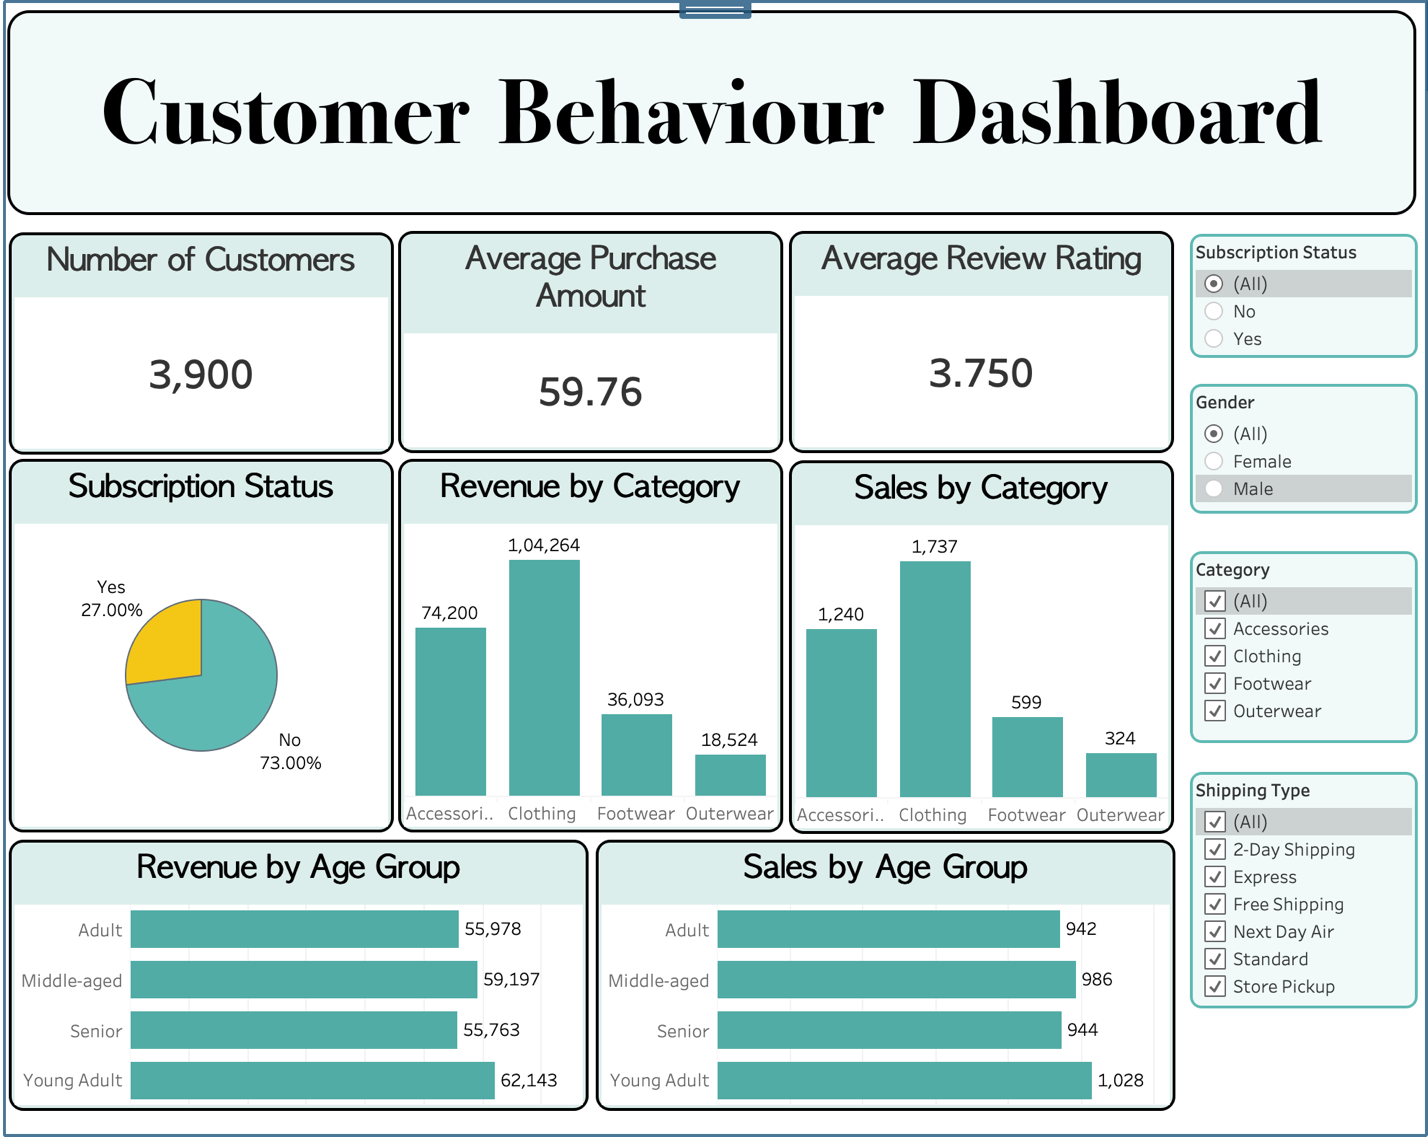

This screenshot's page, from the dashboard's own definition file:
{"tool":"tableau","page":{"name":"Dashboard 1","canvas":[1000,800],"ordinal":0},"visuals":[{"type":"text","box":[9,13,977,142]},{"type":"worksheet","title":"Average Purchase Amount ","mark":"Automatic","box":[279,165,269,156]},{"type":"worksheet","title":"Average Review Rating","mark":"Automatic","box":[550,165,269,156]},{"type":"worksheet","title":"Number of Customers","mark":"Automatic","box":[9,166,269,156]},{"type":"filter","title":"Subscription Status","param":"[federated.0w0owv40n6nkl01d4266i1qc71y3].[none:subscription_status:nk]","box":[828,167,160,88]},{"type":"filter","title":"Revenue by Category","param":"[federated.0w0owv40n6nkl01d4266i1qc71y3].[none:gender:nk]","box":[828,271,160,92]},{"type":"worksheet","title":"Subscription Status","mark":"Pie","box":[9,323,269,261]},{"type":"worksheet","title":"Revenue by Category","mark":"Automatic","rows":["purchase_amount"],"cols":["category"],"box":[279,323,269,261]},{"type":"worksheet","title":"Sales by Category","mark":"Automatic","rows":["customer_id"],"cols":["category"],"box":[550,324,269,261]},{"type":"filter","title":"Sales by Category","param":"[federated.0w0owv40n6nkl01d4266i1qc71y3].[none:category:nk]","box":[828,387,160,135]},{"type":"filter","title":"Revenue by Category","param":"[federated.0w0owv40n6nkl01d4266i1qc71y3].[none:shipping_type:nk]","box":[828,540,160,166]},{"type":"worksheet","title":"Revenue by Age Group","mark":"Automatic","rows":["age_group"],"cols":["purchase_amount"],"box":[9,587,404,190]},{"type":"worksheet","title":"Sales by Age Group","mark":"Automatic","rows":["age_group"],"cols":["customer_id"],"box":[416,587,404,190]}]}

Visuals, with their boxes in screenshot pixels (x1, y1, x2, y2), scaled from the page's 1000x800 canvas onto the 1428x1137 screenshot:
text: select_region(13, 18, 1408, 220)
"Average Purchase Amount " worksheet: select_region(398, 235, 783, 456)
"Average Review Rating" worksheet: select_region(785, 235, 1170, 456)
"Number of Customers" worksheet: select_region(13, 236, 397, 458)
"Subscription Status" filter: select_region(1182, 237, 1411, 362)
"Revenue by Category" filter: select_region(1182, 385, 1411, 516)
"Subscription Status" worksheet (Pie marks): select_region(13, 459, 397, 830)
"Revenue by Category" worksheet: select_region(398, 459, 783, 830)
"Sales by Category" worksheet: select_region(785, 460, 1170, 831)
"Sales by Category" filter: select_region(1182, 550, 1411, 742)
"Revenue by Category" filter: select_region(1182, 767, 1411, 1003)
"Revenue by Age Group" worksheet: select_region(13, 834, 590, 1104)
"Sales by Age Group" worksheet: select_region(594, 834, 1171, 1104)
